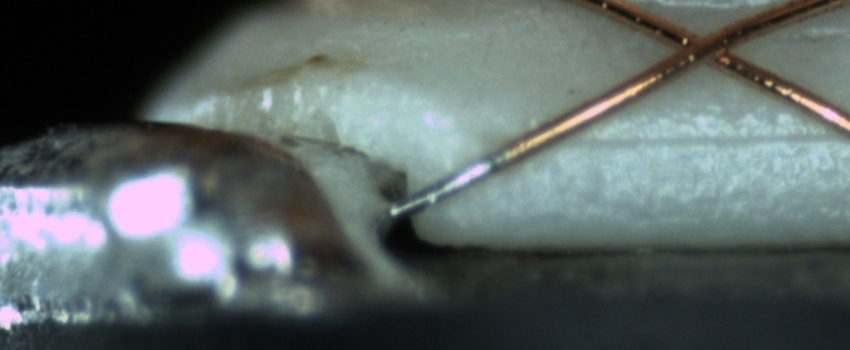CL: (655, 13, 756, 78)
DL: (546, 106, 849, 174)
TS: (390, 147, 511, 218)
